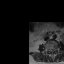CCS_normal: (51, 47, 52, 54)
LFS_stenosis: (54, 47, 56, 51)
LLS_normal: (52, 47, 54, 53)
RFS_normal: (48, 47, 49, 52)
RLS_normal: (49, 47, 51, 53)
